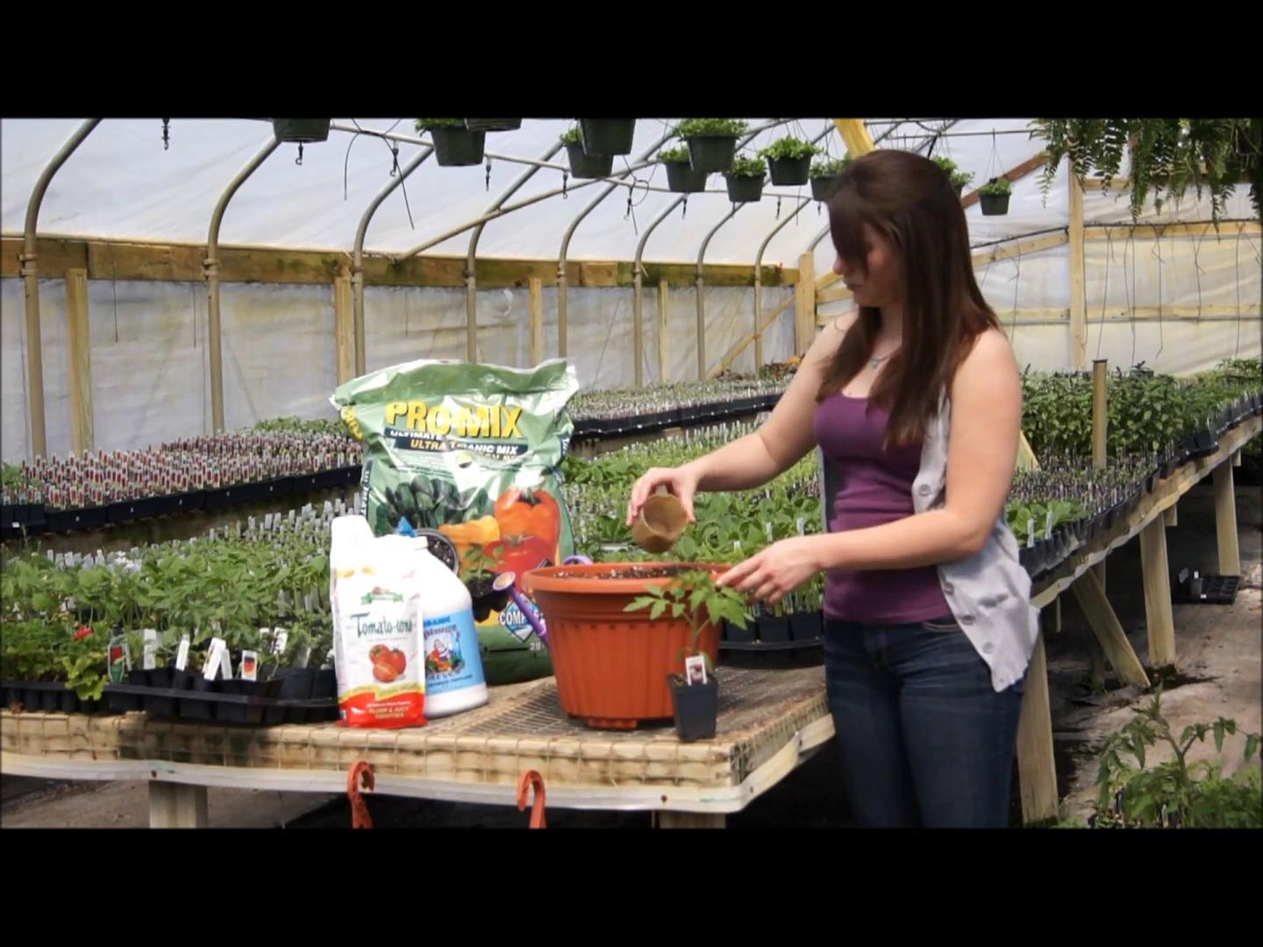victim: (613, 143, 1035, 826)
